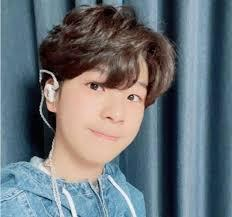earphone: (42, 81, 57, 105)
